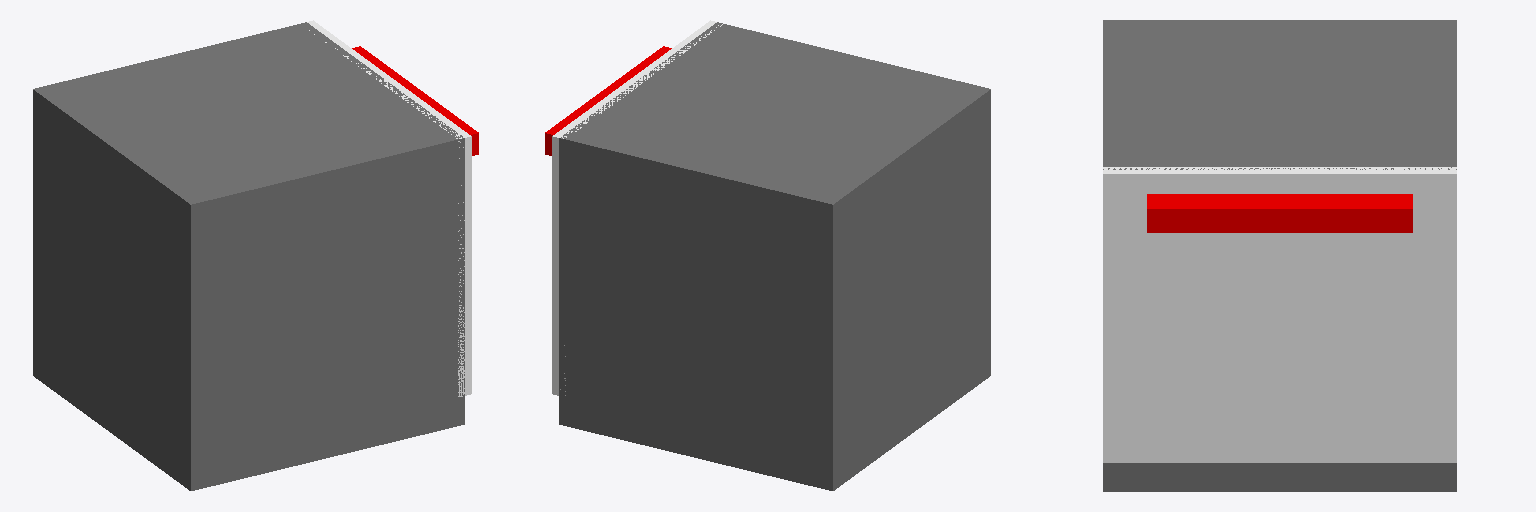
URDF robot description (oven):
<?xml version="1.0"?>
<robot name="oven">

  <link name="oven_body">
    <visual>
      <geometry>
        <box size="0.2 0.2 0.2"/>
      </geometry>
      <material name="gray">
        <color rgba="0.5 0.5 0.5 1"/>
      </material>
      <origin xyz="0 0 0.1"/>
    </visual>
    <collision>
      <geometry>
        <box size="0.2 0.2 0.2"/>
      </geometry>
      <origin xyz="0 0 0.1"/>
    </collision>
    <inertial>
      <mass value="5"/>
      <inertia ixx="0.1" ixy="0" ixz="0" iyy="0.1" iyz="0" izz="0.1"/>
    </inertial>
  </link>

  <joint name="oven_hinge" type="revolute">
    <axis xyz="0 1 0"/>
    <limit effort="100.0" lower="0.0" upper="1.57" velocity="10"/>
    <parent link="oven_body"/>
    <child link="oven_door"/>
    <origin xyz="0.1 0 0.02"/>
  </joint>

  <link name="oven_door">
    <visual>
      <geometry>
        <box size="0.01 0.2 0.18"/>
      </geometry>
      <material name="white">
        <color rgba="1 1 1 1"/>
      </material>
      <origin xyz="0 0 0.09"/>
    </visual>
    <collision>
      <geometry>
        <box size="0.01 0.2 0.18"/>
      </geometry>
      <origin xyz="0 0 0.09"/>
    </collision>
    <inertial>
      <mass value="0.5"/>
      <inertia ixx="0.01" ixy="0" ixz="0" iyy="0.01" iyz="0" izz="0.01"/>
    </inertial>
  </link>

  <joint name="handle_joint" type="fixed">
    <parent link="oven_door"/>
    <child link="oven_handle"/>
    <origin xyz="0.015 0 0.16"/>
  </joint>

  <link name="oven_handle">
    <visual>
      <geometry>
        <box size="0.02 0.15 0.015"/>
      </geometry>
      <material name="red">
        <color rgba="1 0 0 1"/>
      </material>
    </visual>
    <collision>
      <geometry>
        <box size="0.02 0.15 0.015"/>
      </geometry>
    </collision>
    <inertial>
      <mass value="0.1"/>
      <inertia ixx="0.001" ixy="0" ixz="0" iyy="0.001" iyz="0" izz="0.001"/>
    </inertial>
  </link>

</robot>

--- What the picture shows (computed from the rendered views, not written in the file) ---
3 views of the same robot in one strip: view 1: azimuth 30°, elevation 25°; view 2: azimuth 150°, elevation 25°; view 3: azimuth 270°, elevation 25° (orthographic).
Model oven with 3 links and 2 joints (1 revolute, 1 fixed), rooted at oven_body, posed all joints at 0.
Links seen in each view (by area): view 1: oven_body, oven_door, oven_handle; view 2: oven_body, oven_door, oven_handle; view 3: oven_door, oven_body, oven_handle.
Link boxes in pixels (x1,y1,x2,y2): oven_body: [33, 22, 464, 490]; oven_door: [307, 20, 471, 396]; oven_handle: [352, 46, 478, 155]; oven_body: [559, 22, 990, 490]; oven_door: [552, 20, 722, 395]; oven_handle: [545, 46, 671, 155]; oven_door: [1103, 167, 1456, 462]; oven_body: [1103, 20, 1456, 491]; oven_handle: [1147, 194, 1412, 232].
Size in the robot's own frame: 0.225 by 0.2 by 0.2 metres.
Geometry: primitives only (box / cylinder / sphere), no mesh files.